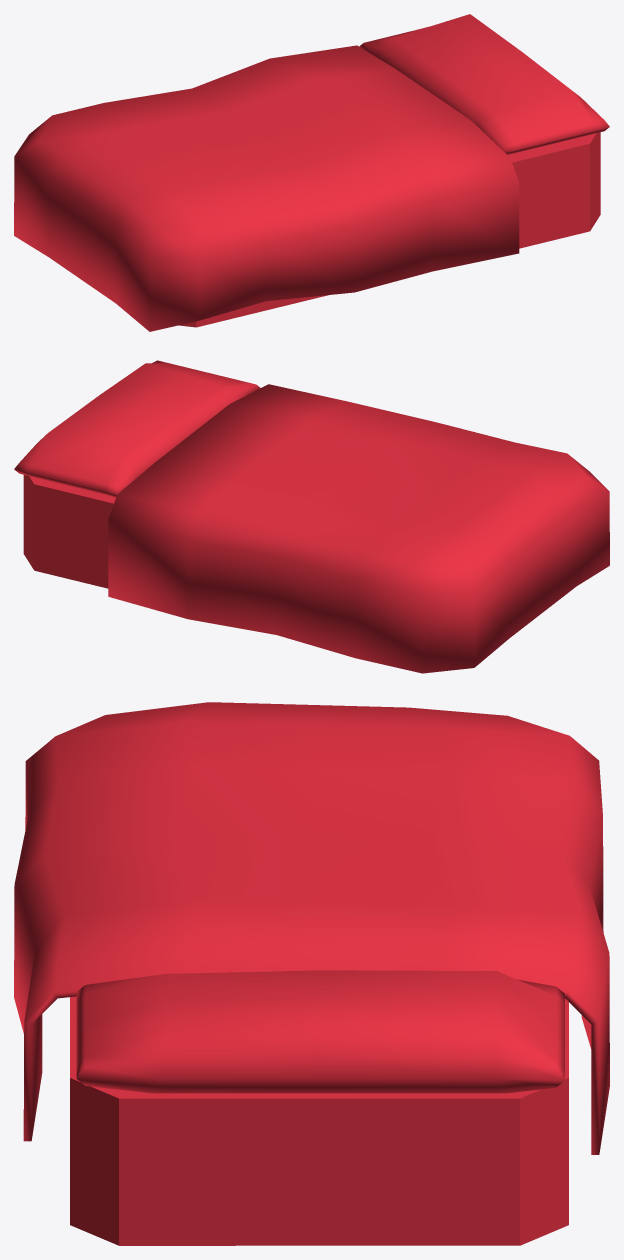
File: Bed.fbx
3 views of the same model, one above another, from view 1: azimuth 30°, elevation 25°; view 2: azimuth 150°, elevation 25°; view 3: azimuth 270°, elevation 25° (orthographic). The views are drawn at different scales.
Visible parts, largest first — view 1: Bed; view 2: Bed; view 3: Bed.
Boxes of the visible parts, bbox=[...] form: Bed: bbox=[14, 14, 609, 331]; Bed: bbox=[14, 360, 609, 673]; Bed: bbox=[14, 702, 609, 1245].
Bounding box in the file's own units: 179 × 45.34 × 119.
